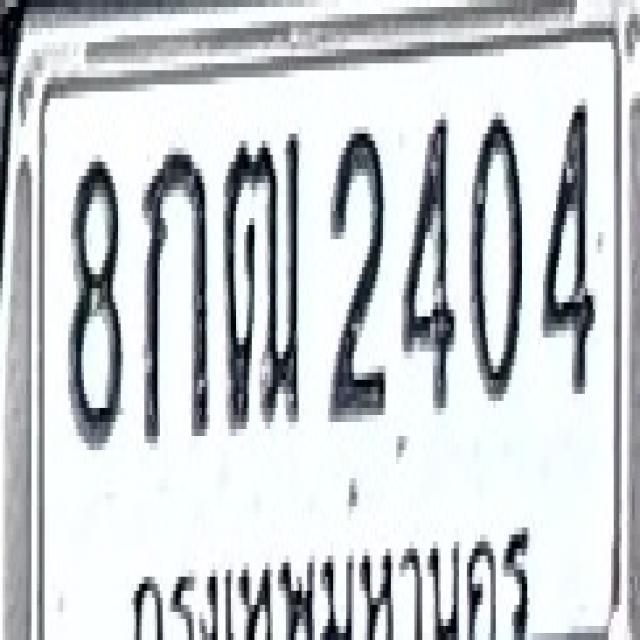-: (222, 127, 300, 429), (140, 141, 208, 443)
0: (468, 105, 523, 401)
2: (328, 123, 385, 419)
4: (540, 91, 596, 394), (400, 109, 455, 411)
8: (67, 151, 122, 447)
